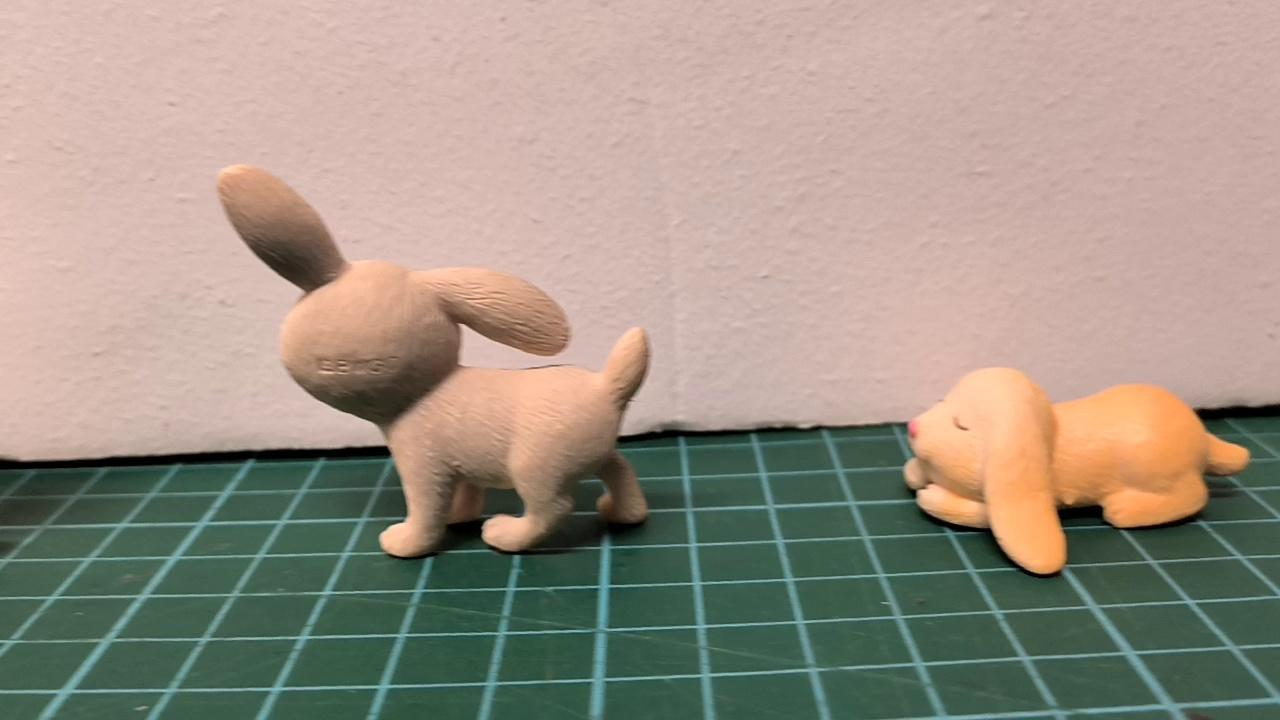pet: (217, 165, 649, 558), (903, 365, 1249, 576)
